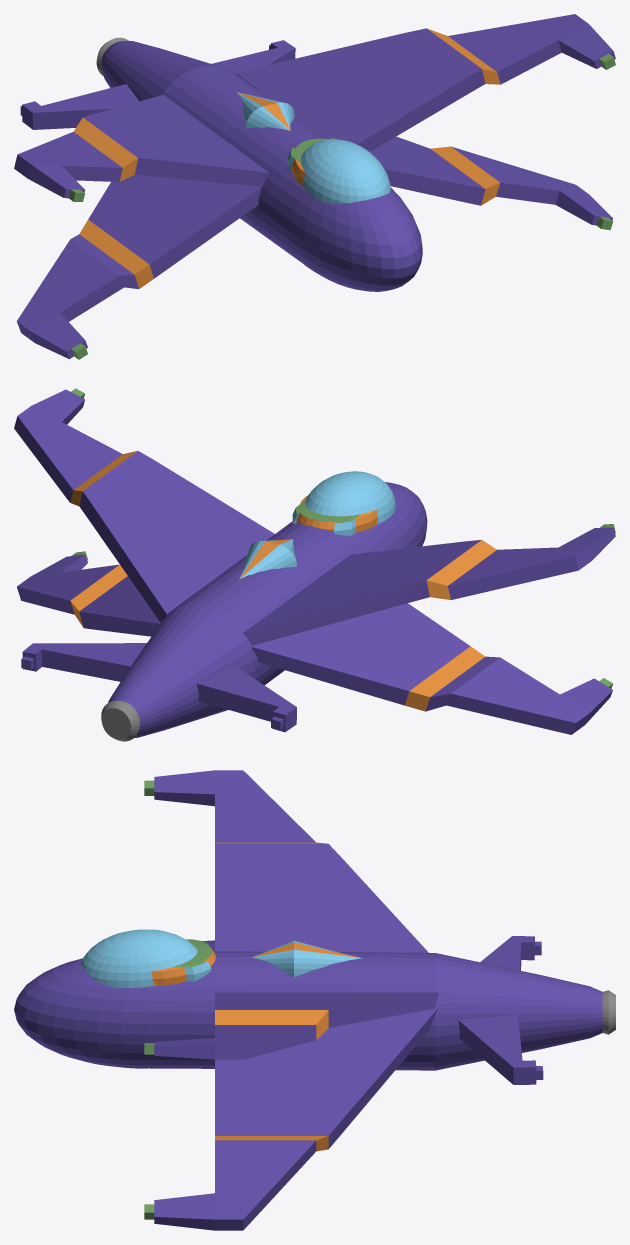
The model's file is ship_moddel.fbx.
3 renders of one model, top to bottom at view 1: azimuth 30°, elevation 25°; view 2: azimuth 150°, elevation 25°; view 3: azimuth 270°, elevation 25°, orthographic. The views are drawn at different scales.
Parts seen in each view (by area): view 1: Cube, Cube.002, Cube.003, Cylinder, Sphere, Cube.001, Sphere.001, Cube.004, Cube.006, Cube.005; view 2: Cube, Cube.002, Cylinder, Cube.003, Cube.001, Sphere.001, Cube.005, Cube.004, Sphere, Cube.006; view 3: Cube.001, Cylinder, Cube.003, Cube, Sphere, Sphere.001, Cube.005, Cube.006, Cube.004.
Boxes of the visible parts, box(x1,y1,x2,y2) form: Cube: box(235, 14, 615, 151); Cube.002: box(16, 174, 261, 359); Cube.003: box(14, 95, 268, 201); Cylinder: box(96, 37, 325, 263); Sphere: box(290, 187, 422, 291); Cube.001: box(370, 136, 613, 230); Sphere.001: box(288, 137, 390, 203); Cube.004: box(20, 84, 138, 129); Cube.006: box(237, 92, 294, 130); Cube.005: box(211, 40, 295, 73); Cube: box(14, 388, 274, 622); Cube.002: box(250, 603, 613, 734); Cylinder: box(101, 521, 392, 741); Cube.003: box(243, 524, 615, 645); Cube.001: box(17, 551, 160, 636); Sphere.001: box(292, 471, 395, 535); Cube.005: box(21, 643, 146, 681); Cube.004: box(196, 666, 296, 732); Sphere: box(379, 482, 427, 549); Cube.006: box(239, 539, 296, 579); Cube.001: box(144, 1008, 438, 1230); Cylinder: box(148, 951, 615, 1070); Cube.003: box(144, 770, 428, 952); Cube: box(144, 992, 438, 1059); Sphere: box(14, 958, 147, 1068); Sphere.001: box(81, 929, 215, 987); Cube.005: box(458, 1014, 543, 1084); Cube.006: box(252, 940, 362, 977); Cube.004: box(480, 936, 541, 970).
Bounding box in the file's own units: 2612 × 813 × 2357.
